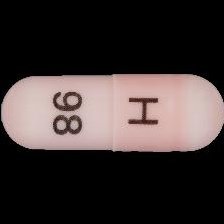64725-0545: (0, 0, 224, 224)
